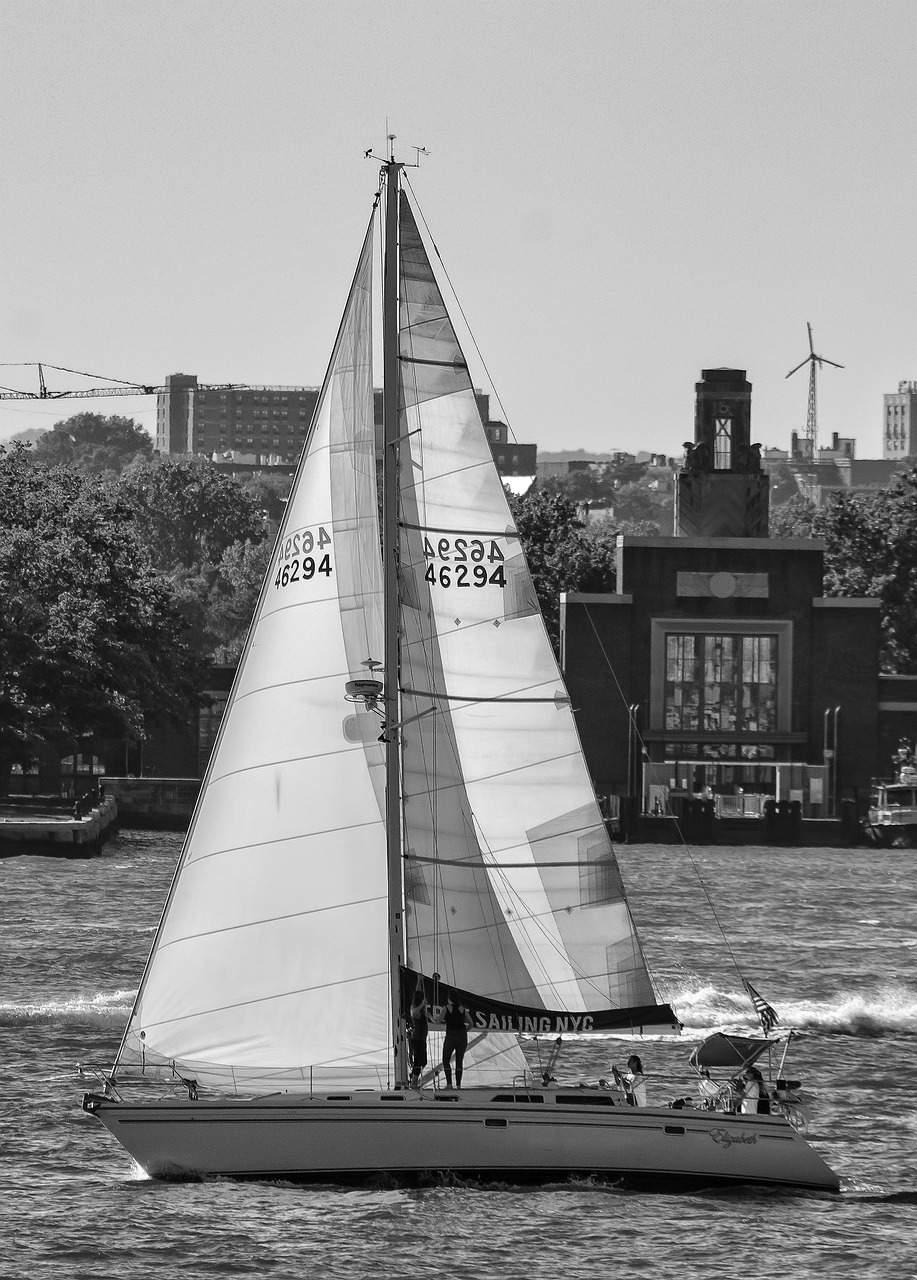Ship: (78, 163, 844, 1207)
